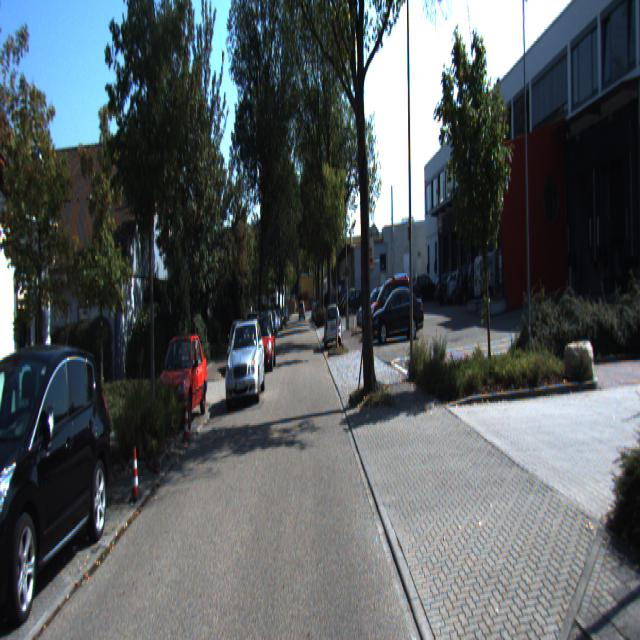Car: (0, 336, 117, 638), (151, 328, 208, 433), (223, 317, 267, 408), (370, 284, 426, 341), (368, 271, 415, 338), (473, 250, 524, 311), (324, 303, 342, 352)
